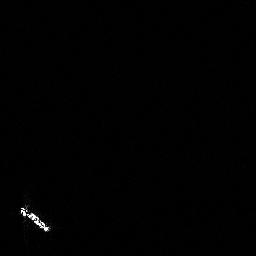ship: (19, 205, 50, 233)
